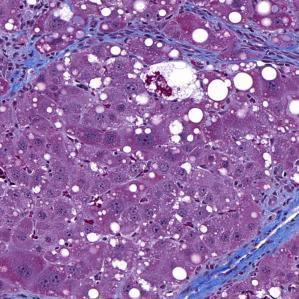fibrosis: (219, 211, 291, 277), (3, 28, 69, 86), (235, 27, 294, 66)
